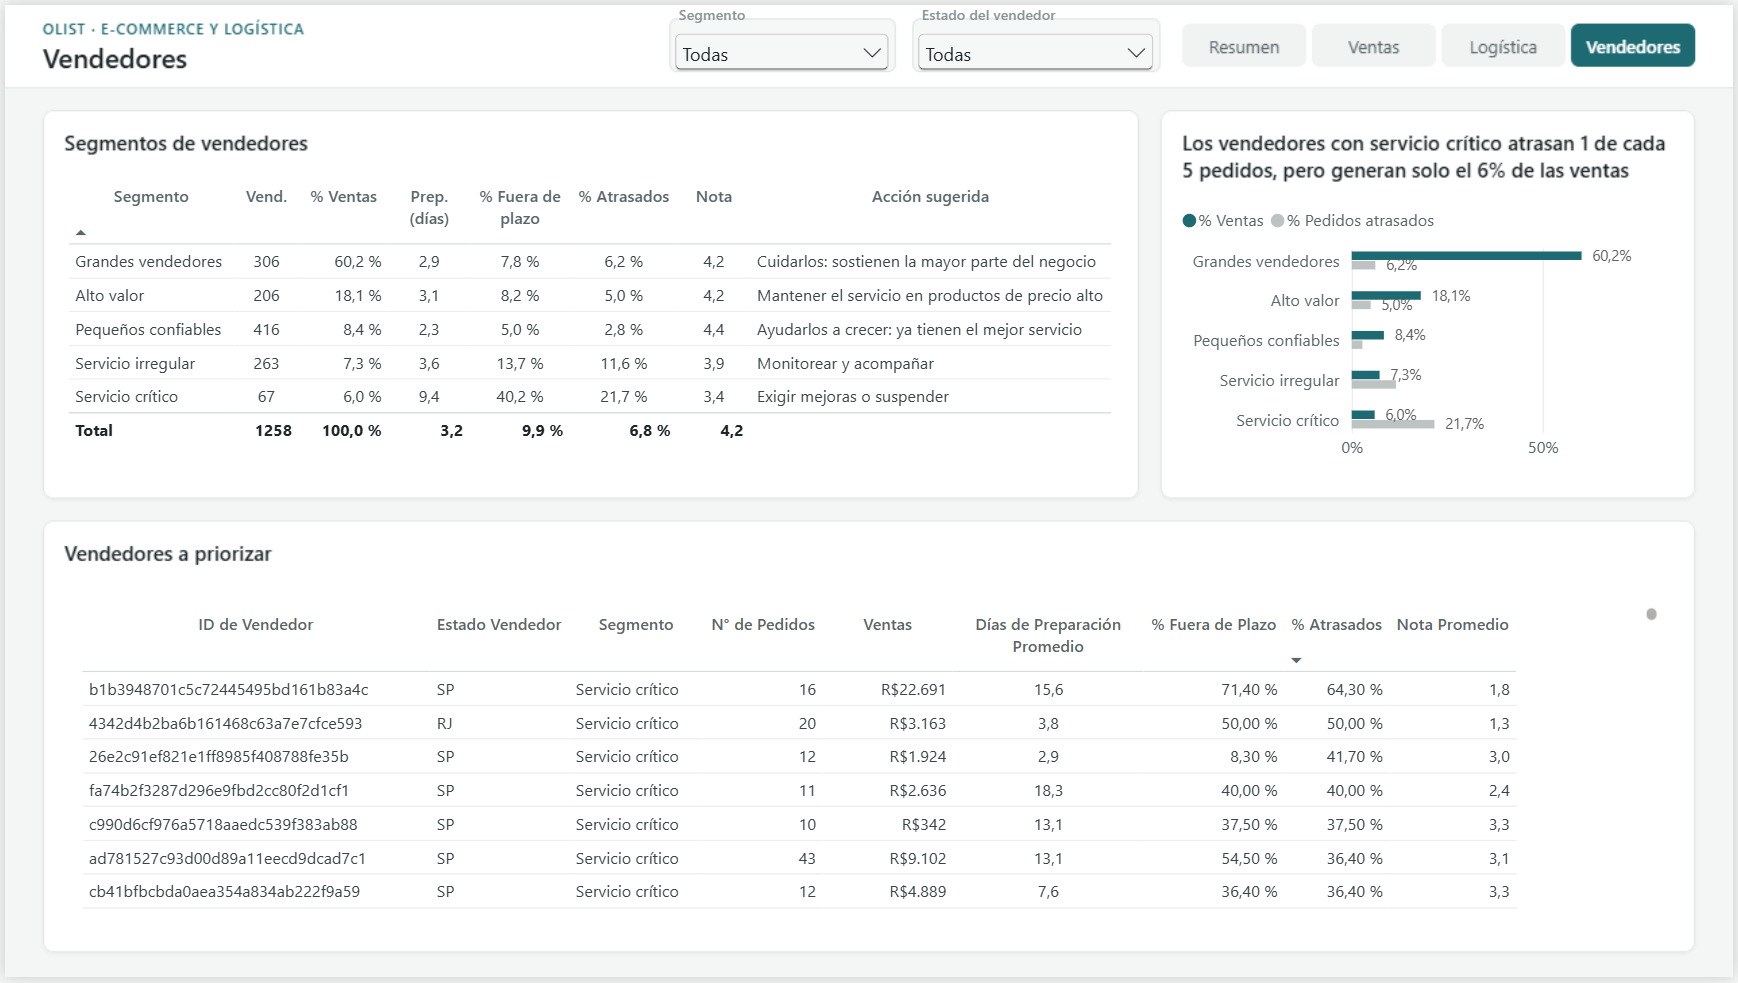

What the dashboard file says about the page in this screenshot:
{"tool":"powerbi","page":{"name":"Vendedores","canvas":[1280,720],"ordinal":3},"visuals":[{"type":"tableEx","fields":{"Values":["dim_vendedores.segmento","_Medidas.Vendedores","_Medidas.% Ventas segmento","_Medidas.Preparación vend.","_Medidas.% Fuera de plazo vend.","_Medidas.% Atrasados vend.","_Medidas.Nota vend.","dim_vendedores.accion"]},"box":[30,115.7,807.1,240],"z":0},{"type":"clusteredBarChart","title":"Los vendedores con servicio crítico atrasan 1 de cada 5 pedidos, pero generan solo el 6% de las ventas","fields":{"Category":["dim_vendedores.segmento"],"Y":["_Medidas.% Ventas segmento","_Medidas.% Atrasados vend."]},"box":[855.9,130.7,396.4,225.5],"z":1000},{"type":"tableEx","title":"Vendedores a priorizar","fields":{"Values":["dim_vendedores.seller_id","dim_vendedores.estado_vendedor","dim_vendedores.segmento","dim_vendedores.n_pedidos","dim_vendedores.ventas","dim_vendedores.dias_preparacion_prom","dim_vendedores.Fuera de plazo %","dim_vendedores.Atrasados %","dim_vendedores.nota_promedio"]},"box":[40,432,1200,260],"z":2000},{"type":"slicer","fields":{"Values":["dim_vendedores.segmento"]},"box":[491.4,0,168.6,50],"z":3000},{"type":"slicer","fields":{"Values":["dim_vendedores.estado_vendedor"]},"box":[671.4,0,184.3,50],"z":4000},{"type":"actionButton","box":[871.4,12.9,92.9,32.9],"z":5000},{"type":"actionButton","box":[967.1,12.9,92.9,32.9],"z":6000},{"type":"actionButton","box":[1064.3,12.9,92.9,32.9],"z":7000},{"type":"actionButton","box":[1158.6,12.9,92.9,32.9],"z":8000}]}

Visuals, with their boxes in screenshot pixels (x1, y1, x2, y2), scaled from the page's 1280x720 canvas onto the 1738x983 screenshot:
tableEx - dim_vendedores.segmento x _Medidas.Vendedores: bbox(41, 158, 1137, 486)
"Los vendedores con servicio crítico atrasan 1 de cada 5 pedidos, pero generan solo el 6% de las ventas" clusteredBarChart: bbox(1162, 178, 1700, 486)
"Vendedores a priorizar" tableEx: bbox(54, 590, 1684, 945)
slicer - dim_vendedores.segmento: bbox(667, 0, 896, 68)
slicer - dim_vendedores.estado_vendedor: bbox(912, 0, 1162, 68)
actionButton: bbox(1183, 18, 1309, 63)
actionButton: bbox(1313, 18, 1439, 63)
actionButton: bbox(1445, 18, 1571, 63)
actionButton: bbox(1573, 18, 1699, 63)
